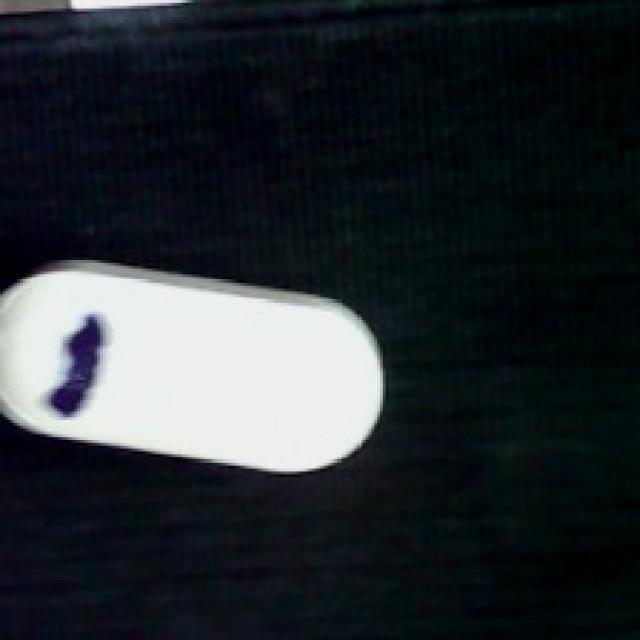defected: (0, 260, 389, 474)
